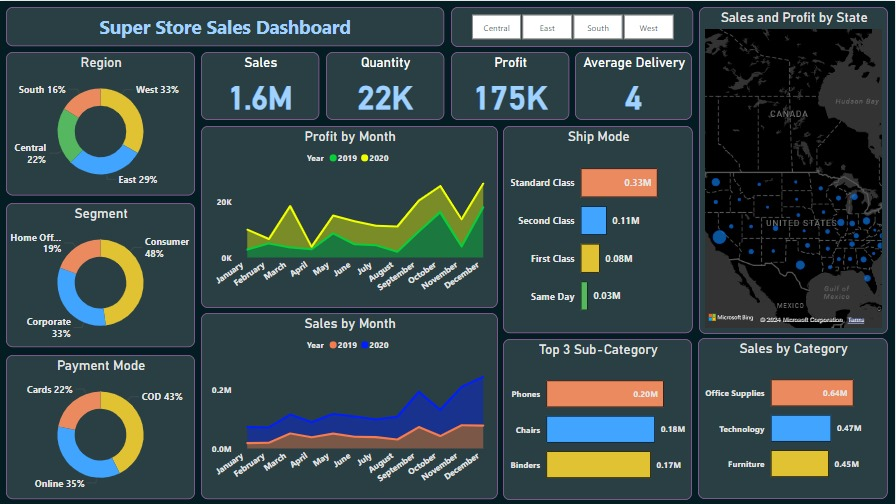

Layout of this report page (visuals, bound fields, positions):
{"tool":"powerbi","page":{"name":"Sales","canvas":[1280,720],"ordinal":0},"visuals":[{"type":"clusteredBarChart","title":"Sales by Category","fields":{"Category":["Sheet1.Category"],"Y":["Sum(Sheet1.Sales)"]},"box":[998.6,481.4,271.4,230],"z":0},{"type":"clusteredBarChart","title":"Top 3 Sub-Category","fields":{"Category":["Sheet1.Sub-Category"],"Y":["Sum(Sheet1.Sales)"]},"box":[720,483.3,270,230],"z":1000},{"type":"clusteredBarChart","title":"Ship Mode","fields":{"Category":["Sheet1.Ship Mode"],"Y":["Sum(Sheet1.Sales)"]},"box":[720,178.6,271.4,295.7],"z":2000},{"type":"stackedAreaChart","title":"Sales by Month","fields":{"Y":["Sum(Sheet1.Sales)"],"Category":["Sheet1.Order Date.Variation.Date Hierarchy.Month","Sheet1.Order Date.Variation.Date Hierarchy.Day"],"Series":["Sheet1.Order Date.Variation.Date Hierarchy.Year"]},"box":[288.6,445.7,424.3,265.7],"z":3000},{"type":"stackedAreaChart","title":"Profit by Month","fields":{"Category":["Sheet1.Order Date.Variation.Date Hierarchy.Month","Sheet1.Order Date.Variation.Date Hierarchy.Day"],"Series":["Sheet1.Order Date.Variation.Date Hierarchy.Year"],"Y":["Sum(Sheet1.Profit)"]},"box":[288.6,178.6,424.3,260],"z":4000},{"type":"map","title":"Sales and Profit by State","fields":{"Category":["Sheet1.State"],"Size":["Sum(Sheet1.Sales)"]},"box":[1000,8.3,270,466.7],"z":5000},{"type":"donutChart","title":"Segment","fields":{"Category":["Sheet1.Segment"],"Y":["Sum(Sheet1.Sales)"]},"box":[10,288.6,270,205.7],"z":6000},{"type":"donutChart","title":"Payment Mode","fields":{"Y":["Sum(Sheet1.Sales)"],"Category":["Sheet1.Payment Mode"]},"box":[10,505.7,270,205.7],"z":7000},{"type":"slicer","fields":{"Values":["Sheet1.Region"]},"box":[645.7,8.6,345.7,57.1],"z":8000},{"type":"textbox","box":[10,8.6,625.7,55.7],"z":9000},{"type":"card","title":"Sales","fields":{"Values":["Sum(Sheet1.Sales)"]},"box":[288.6,72.9,168.6,97.1],"z":10000},{"type":"card","title":"Quantity","fields":{"Values":["Sum(Sheet1.Quantity)"]},"box":[467.1,72.9,168.6,97.1],"z":11000},{"type":"card","title":"Profit","fields":{"Values":["Sum(Sheet1.Profit)"]},"box":[645.7,72.9,168.6,97.1],"z":12000},{"type":"card","title":"Average Delivery","fields":{"Values":["Avg(Sheet1.AvgDelivery)"]},"box":[822.9,72.9,167.1,97.1],"z":13000},{"type":"donutChart","title":"Region","fields":{"Y":["Sum(Sheet1.Sales)"],"Category":["Sheet1.Region"]},"box":[10,72.9,270,205],"z":14000}]}

Visuals, with their boxes in screenshot pixels (x1, y1, x2, y2), scaled from the page's 1280x720 canvas onto the 896x504 screenshot:
"Sales by Category" clusteredBarChart: 699, 337, 889, 498
"Top 3 Sub-Category" clusteredBarChart: 504, 338, 693, 499
"Ship Mode" clusteredBarChart: 504, 125, 694, 332
"Sales by Month" stackedAreaChart: 202, 312, 499, 498
"Profit by Month" stackedAreaChart: 202, 125, 499, 307
"Sales and Profit by State" map: 700, 6, 889, 332
"Segment" donutChart: 7, 202, 196, 346
"Payment Mode" donutChart: 7, 354, 196, 498
slicer - Sheet1.Region: 452, 6, 694, 46
textbox: 7, 6, 445, 45
"Sales" card: 202, 51, 320, 119
"Quantity" card: 327, 51, 445, 119
"Profit" card: 452, 51, 570, 119
"Average Delivery" card: 576, 51, 693, 119
"Region" donutChart: 7, 51, 196, 195
